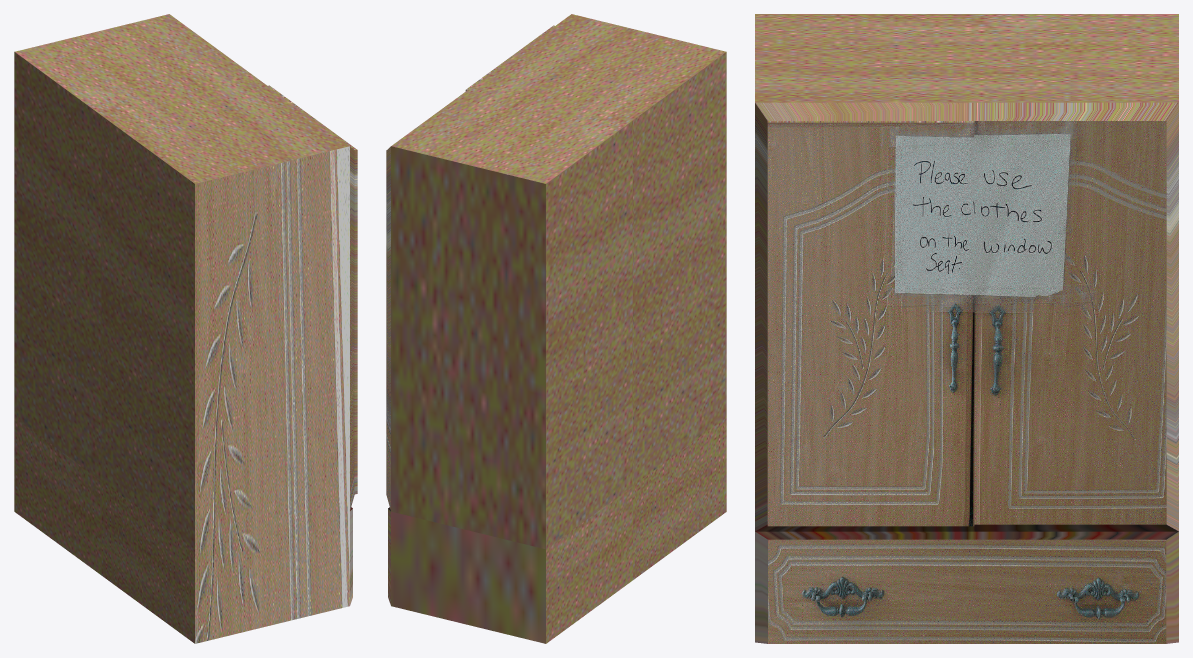
Rendered from dresswrapgame.fbx.
3 renders of one model, left to right at view 1: azimuth 30°, elevation 25°; view 2: azimuth 150°, elevation 25°; view 3: azimuth 270°, elevation 25°, orthographic. The views are drawn at different scales.
Visible parts, largest first — view 1: Cube; view 2: Cube; view 3: Cube.
Part boxes in pixels (<box>): Cube: <box>14,14,357,643</box>; Cube: <box>386,14,726,643</box>; Cube: <box>755,14,1178,643</box>.
Size of the model in its own units: 242 by 633 by 450.
